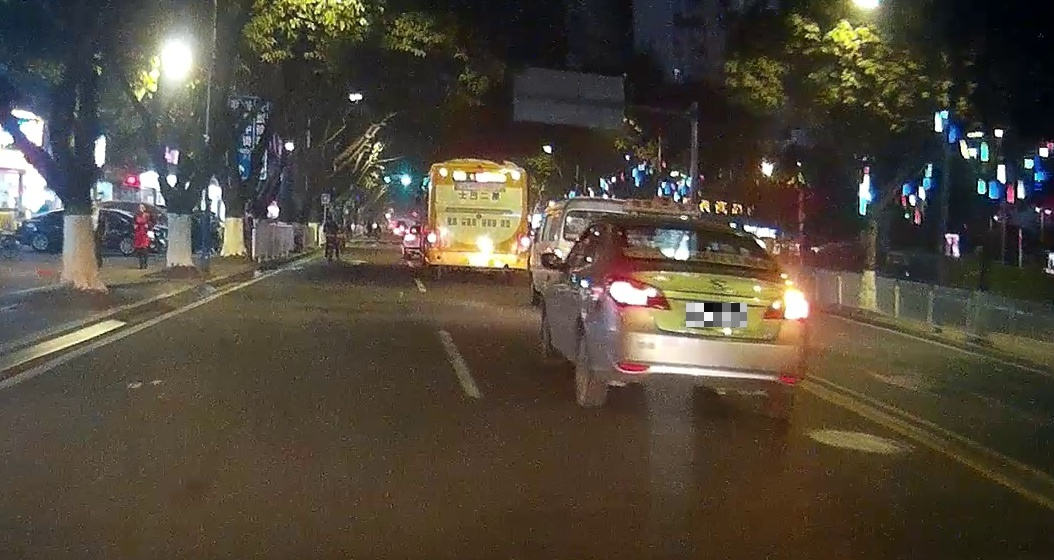L_light: (606, 274, 672, 312), (426, 223, 440, 249)
R_light: (760, 286, 809, 320), (516, 231, 530, 254)
T_light: (690, 224, 716, 234), (460, 163, 484, 172)
night-no: (425, 157, 530, 281)
night-right: (604, 214, 810, 415)
plate_1: (686, 303, 747, 327)
